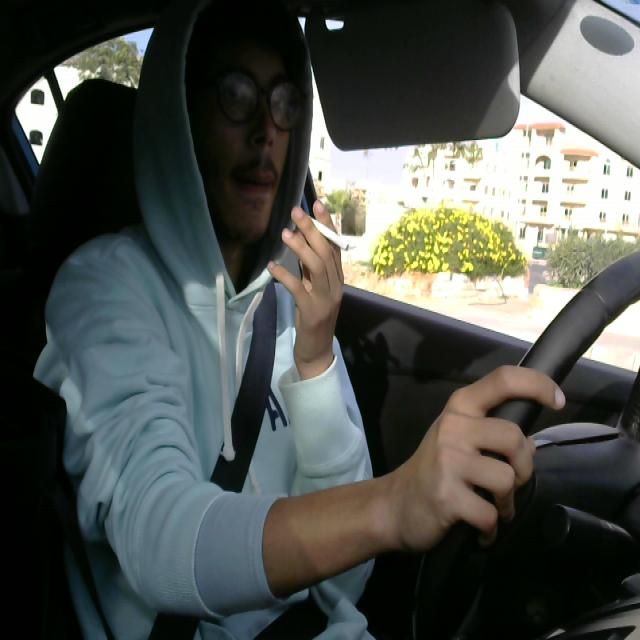smoking: (292, 204, 355, 260)
